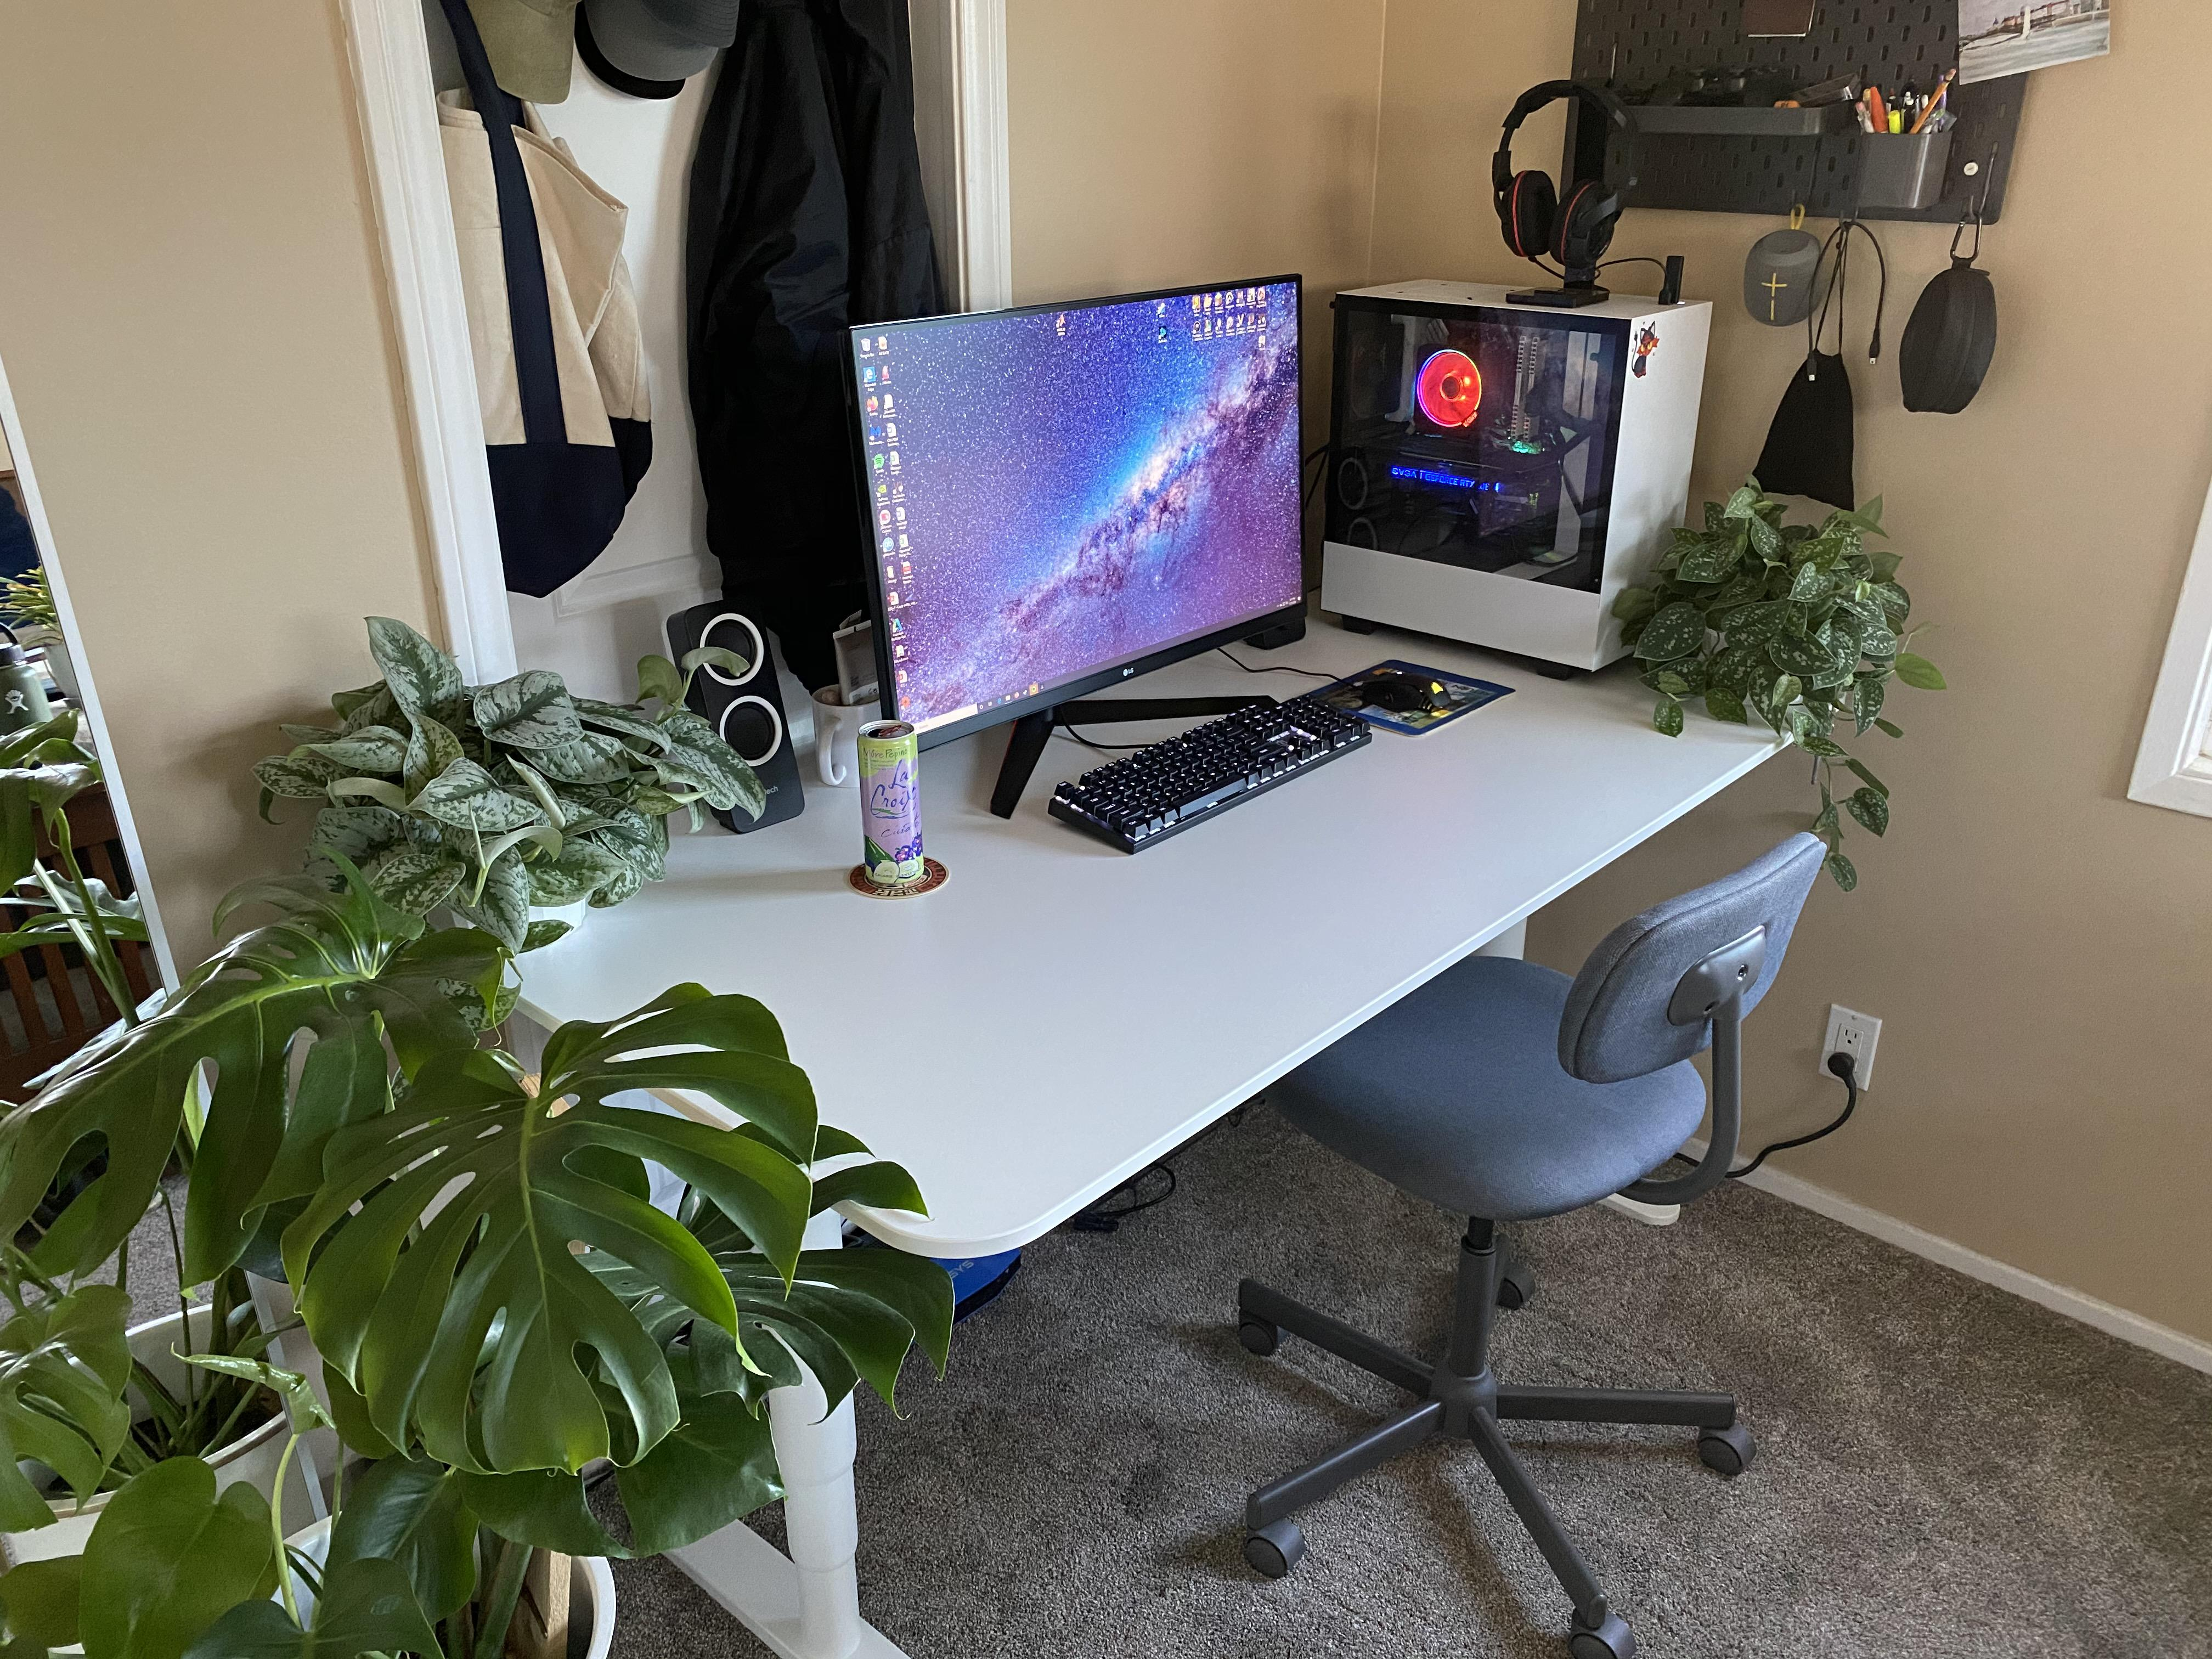Cellphone Charger (Generic): (1787, 192, 1909, 396)
Chair (Generic): (1242, 842, 1820, 1659)
Cup: (846, 713, 930, 885)
Decoration (Plant): (0, 584, 834, 1643), (1609, 462, 1966, 866)
Desk (Generic): (263, 641, 1888, 1621)
Desktop (Windows): (1299, 267, 1726, 697)
Drink Coaster: (831, 843, 956, 911)
External Speakers (Subwoofers): (624, 579, 813, 843)
Headphones: (1460, 66, 1653, 282)
Keyboard (Gaming): (1035, 662, 1378, 875)
Monitor (Landscape): (859, 263, 1331, 760)
Mouse (Gaming): (1346, 653, 1456, 730)
Mousepad (Gaming): (1292, 660, 1524, 739)
Mug: (787, 681, 895, 795)
